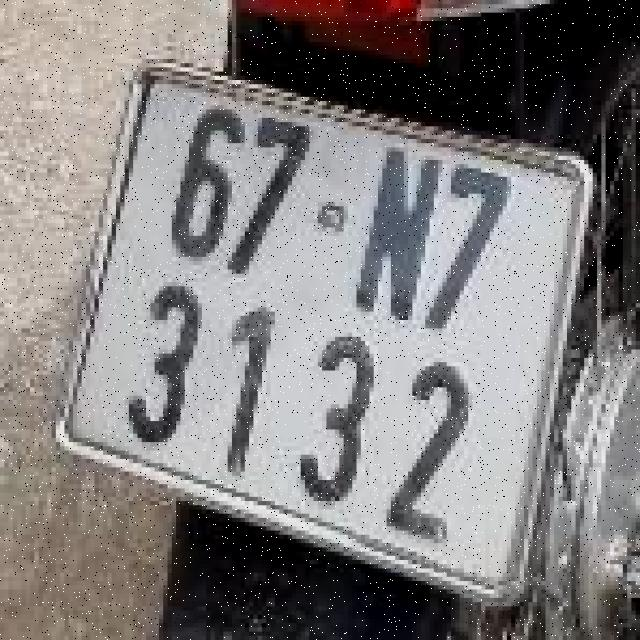1: (200, 289, 309, 498)
2: (370, 340, 502, 561)
3: (280, 314, 395, 520), (113, 264, 222, 463)
6: (152, 84, 261, 279)
7: (414, 154, 529, 352), (219, 99, 328, 296)
N: (343, 131, 451, 339)
